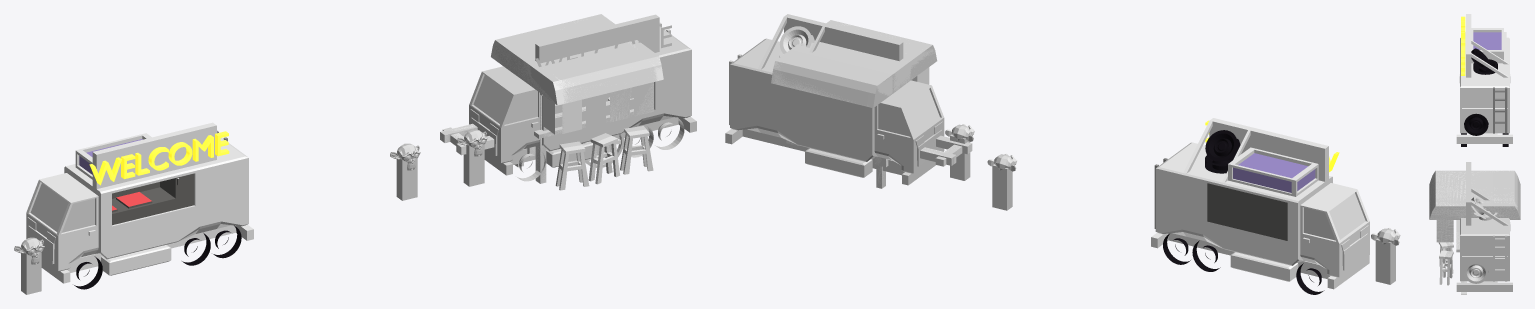
The model's file is cart.gltf.
The picture shows the model from 3 angles, left to right: view 1: azimuth 30°, elevation 25°; view 2: azimuth 150°, elevation 25°; view 3: azimuth 270°, elevation 25°; orthographic projection. The views are drawn at different scales.
Visible parts, largest first — view 1: Cube.003, Food Truck, Cube, Plane, all, chairs, Plane.003, Cube.006, Cube.002, Cube.005, Text.001, Text (+2 smaller); view 2: Cube.003, Cube, Plane, Food Truck, all, Cube.005, Cube.006, Cube.002, Circle.011, Circle.005; view 3: Food Truck, Plane, Cube, Cube.003, all, Circle.004, Plane.003, chairs, Cube.001, Plane.001, Circle.005, Circle.009 (+3 smaller).
Part boxes in pixels (left/top/right/bottom): Cube.003: left=26, top=122, right=252, bottom=283; Food Truck: left=28, top=125, right=253, bottom=289; Cube: left=469, top=14, right=696, bottom=175; Plane: left=440, top=14, right=661, bottom=183; all: left=440, top=20, right=663, bottom=183; chairs: left=559, top=129, right=653, bottom=190; Plane.003: left=562, top=82, right=653, bottom=132; Cube.006: left=390, top=143, right=420, bottom=200; Cube.002: left=457, top=129, right=487, bottom=186; Cube.005: left=14, top=237, right=44, bottom=294; Text.001: left=92, top=133, right=229, bottom=185; Text: left=535, top=25, right=671, bottom=66; Cube.003: left=1151, top=118, right=1369, bottom=288; Cube: left=725, top=14, right=944, bottom=185; Plane: left=771, top=20, right=971, bottom=188; Food Truck: left=1151, top=118, right=1367, bottom=294; all: left=771, top=24, right=972, bottom=187; Cube.005: left=1371, top=228, right=1400, bottom=284; Cube.006: left=987, top=153, right=1016, bottom=210; Cube.002: left=945, top=124, right=974, bottom=180; Circle.011: left=1205, top=130, right=1239, bottom=161; Circle.005: left=779, top=26, right=814, bottom=53; Food Truck: left=1456, top=14, right=1512, bottom=146; Plane: left=1429, top=170, right=1520, bottom=252; Cube: left=1456, top=162, right=1512, bottom=291; Cube.003: left=1459, top=14, right=1512, bottom=137; all: left=1429, top=170, right=1519, bottom=251; Circle.004: left=1464, top=261, right=1488, bottom=283; Plane.003: left=1436, top=220, right=1453, bottom=242; chairs: left=1438, top=242, right=1453, bottom=284; Cube.001: left=1493, top=235, right=1507, bottom=281; Plane.001: left=1444, top=251, right=1453, bottom=285; Circle.005: left=1471, top=196, right=1490, bottom=218; Circle.009: left=1473, top=59, right=1497, bottom=74.
Bounding box in the file's own units: 46.21 × 8.81 × 7.9.
